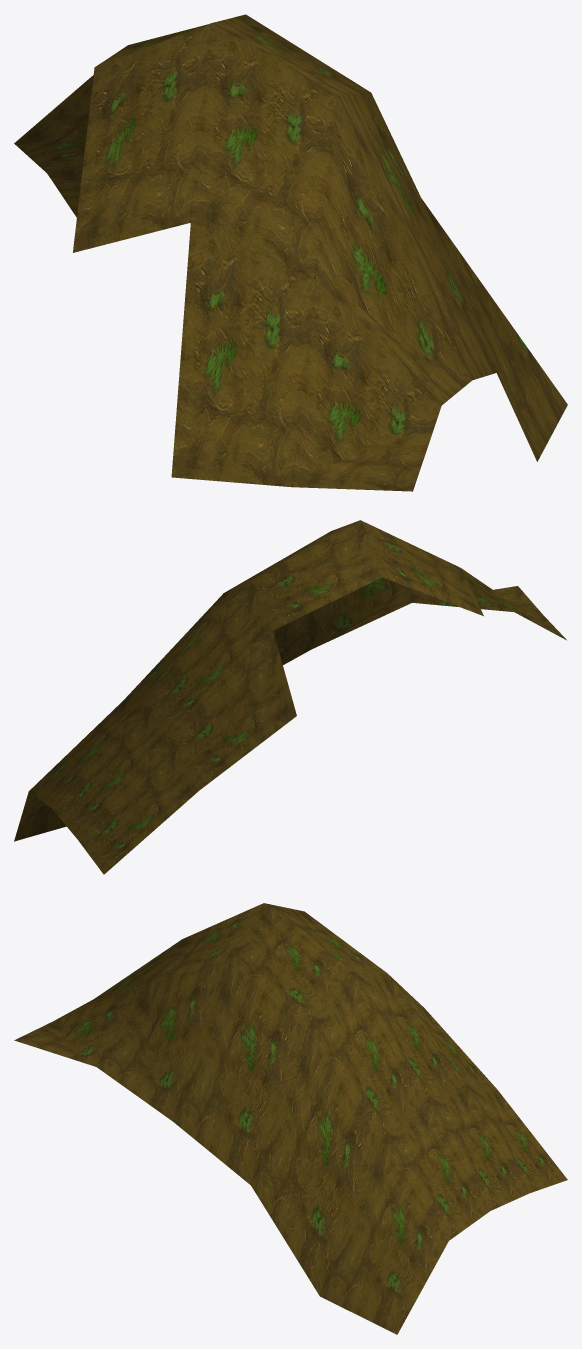
The model's file is MIRKWOOD_AREA4_BARRIERD.fbx.
The picture shows the model from 3 angles, top to bottom: view 1: azimuth 30°, elevation 25°; view 2: azimuth 150°, elevation 25°; view 3: azimuth 270°, elevation 25°; orthographic projection. The views are drawn at different scales.
Visible parts, largest first — view 1: MIRKWOOD_AREA4_BARRIERD; view 2: MIRKWOOD_AREA4_BARRIERD; view 3: MIRKWOOD_AREA4_BARRIERD.
Boxes of the visible parts, x1,y1,x2,y2 form: MIRKWOOD_AREA4_BARRIERD: (14, 14, 567, 491); MIRKWOOD_AREA4_BARRIERD: (14, 520, 566, 874); MIRKWOOD_AREA4_BARRIERD: (14, 903, 567, 1334).
Size of the model in its own units: 199492 by 164362 by 267283.
1 material, 1 textured.
